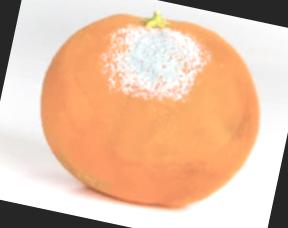Orange Rotten: (17, 0, 288, 228)
